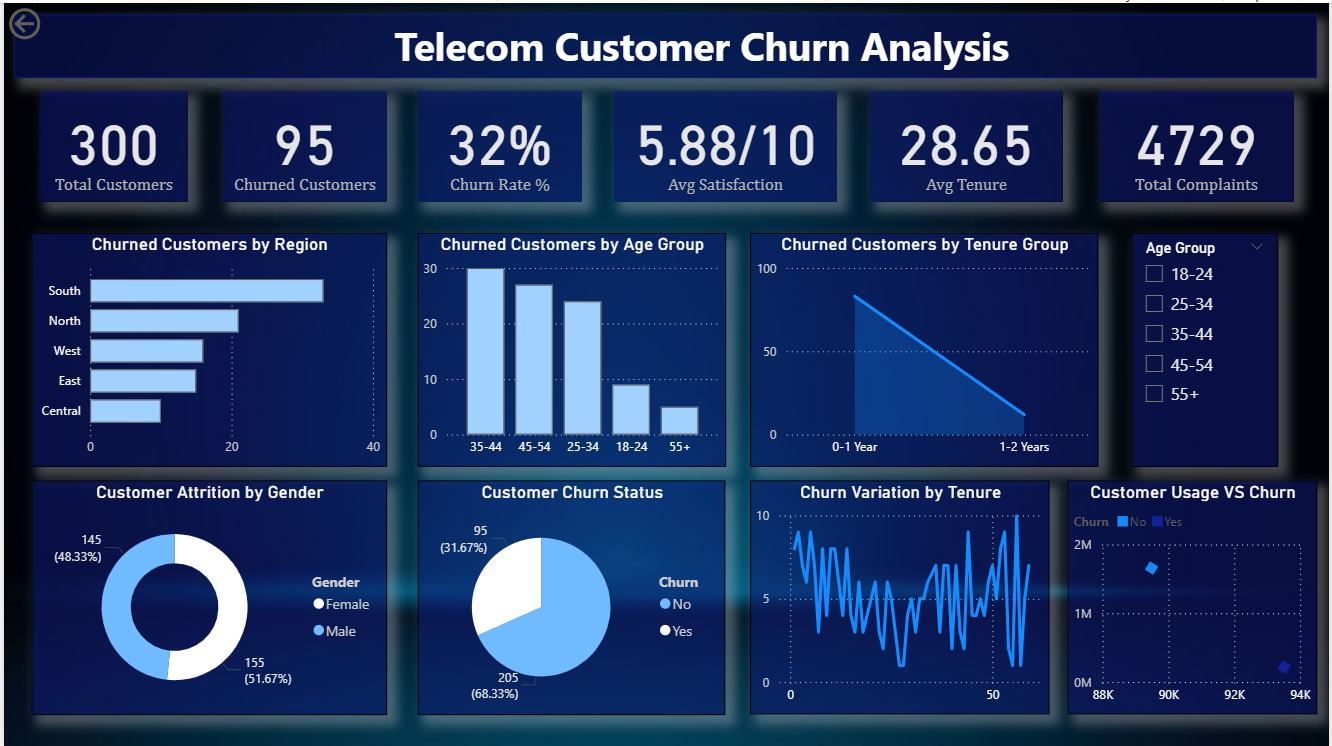

The dashboard page shown, as its layout file describes it:
{"tool":"powerbi","page":{"name":"Page 1","canvas":[1280,720],"ordinal":0},"visuals":[{"type":"textbox","box":[9.4,10.8,1257.4,61.9],"z":0},{"type":"card","fields":{"Values":["customers.Total Customers"]},"box":[35,84.7,142.6,107.6],"z":1000},{"type":"card","fields":{"Values":["customers.Churned Customers"]},"box":[211.1,84.7,158.7,107.6],"z":1001},{"type":"card","fields":{"Values":["customers.Churn Rate %"]},"box":[399.4,84.7,158.7,107.6],"z":1002},{"type":"card","fields":{"Values":["feedback.Avg Satisfaction"]},"box":[589,84.7,215.2,107.6],"z":1003},{"type":"card","fields":{"Values":["customers.Avg Tenure"]},"box":[836.5,84.7,185.6,107.6],"z":1004},{"type":"card","fields":{"Values":["feedback.Total Complaints"]},"box":[1057,84.7,188.3,107.6],"z":1005},{"type":"clusteredBarChart","fields":{"Category":["customers.Region"],"Y":["customers.Churned Customers"]},"box":[26.9,221.9,342.9,225.9],"z":1006},{"type":"donutChart","title":"Customer Attrition  by Gender","fields":{"Category":["customers.Gender"],"Y":["CountNonNull(customers.Churn)"]},"box":[27,461,343,226],"z":1007},{"type":"columnChart","fields":{"Y":["customers.Churned Customers"],"Category":["customers.Age Group"]},"box":[399.4,221.9,297.2,225.9],"z":1008},{"type":"stackedAreaChart","fields":{"Y":["customers.Churned Customers"],"Category":["customers.Tenure Group"]},"box":[720.8,221.9,336.2,225.9],"z":1010},{"type":"scatterChart","title":"Customer Usage VS Churn","fields":{"X":["Sum(usage.DataUsage)"],"Y":["Sum(usage.CallMinutes)"],"Series":["customers.Churn"]},"box":[1026.1,461.3,240.7,225.9],"z":1011},{"type":"slicer","fields":{"Values":["customers.Age Group"]},"box":[1088.2,222,156.8,225.6],"z":1012},{"type":"pieChart","title":"Customer Churn Status","fields":{"Category":["customers.Churn"],"Y":["CountNonNull(customers.CustomerID)"]},"box":[399,461,297,226],"z":1013},{"type":"actionButton","box":[0,0,100,40],"z":1015},{"type":"lineChart","title":"Churn Variation by Tenure","fields":{"Category":["customers.Tenure"],"Y":["CountNonNull(customers.Churn)"]},"box":[720.8,461.3,289.1,225.9],"z":1016}]}

Visuals, with their boxes in screenshot pixels (x1, y1, x2, y2), scaled from the page's 1280x720 canvas onto the 1332x746 screenshot:
textbox: 10/11/1318/75
card - customers.Total Customers: 36/88/185/199
card - customers.Churned Customers: 220/88/385/199
card - customers.Churn Rate %: 416/88/581/199
card - feedback.Avg Satisfaction: 613/88/837/199
card - customers.Avg Tenure: 870/88/1064/199
card - feedback.Total Complaints: 1100/88/1296/199
clusteredBarChart - customers.Region x customers.Churned Customers: 28/230/385/464
"Customer Attrition  by Gender" donutChart: 28/478/385/712
columnChart - customers.Churned Customers x customers.Age Group: 416/230/725/464
stackedAreaChart - customers.Churned Customers x customers.Tenure Group: 750/230/1100/464
"Customer Usage VS Churn" scatterChart: 1068/478/1318/712
slicer - customers.Age Group: 1132/230/1296/464
"Customer Churn Status" pieChart: 415/478/724/712
actionButton: 0/0/104/41
"Churn Variation by Tenure" lineChart: 750/478/1051/712
